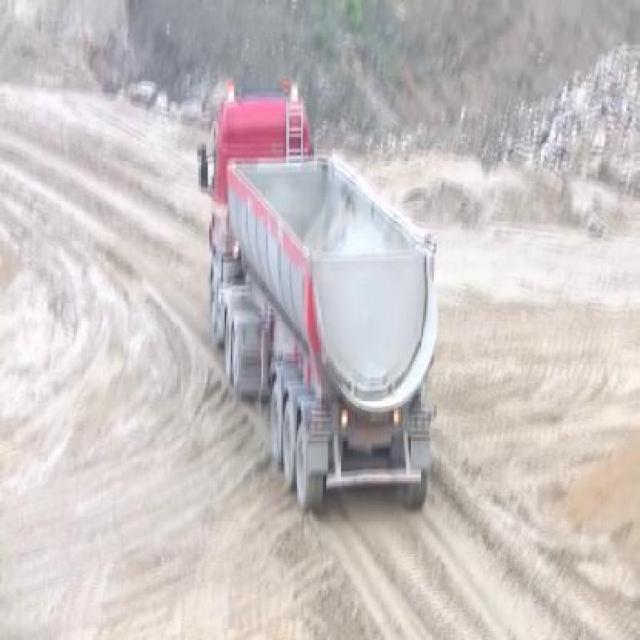Dump Truck: (195, 74, 438, 515)
